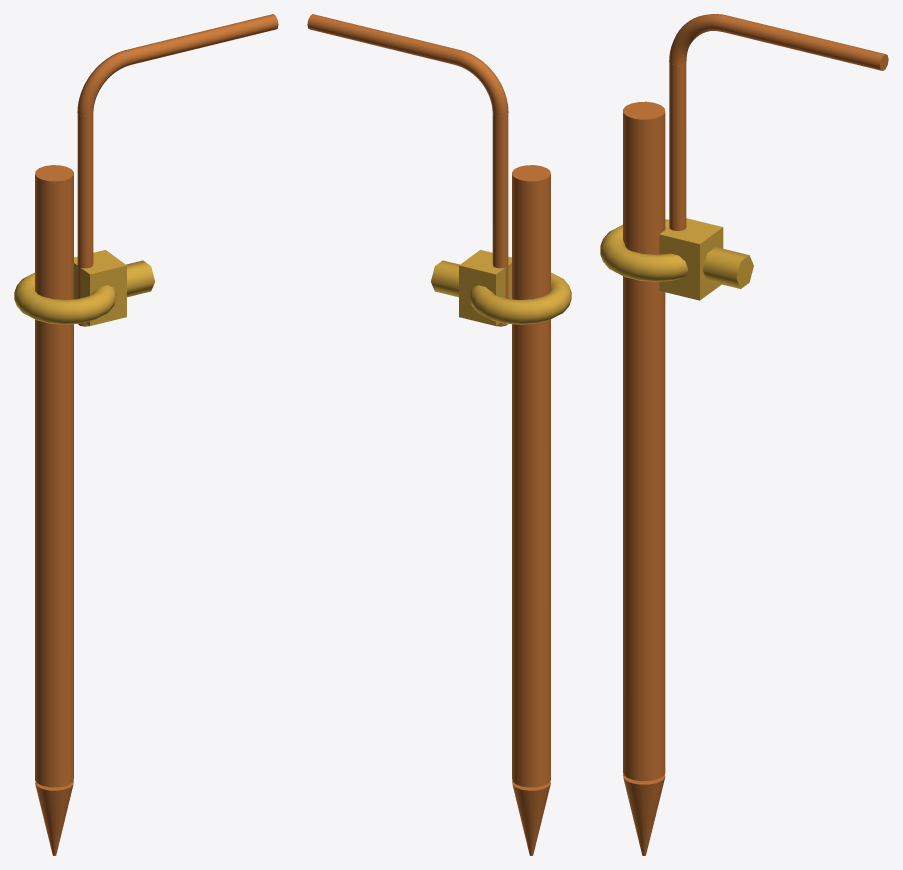
3 renders of one model, left to right at view 1: azimuth 30°, elevation 25°; view 2: azimuth 150°, elevation 25°; view 3: azimuth 330°, elevation 25°, orthographic. The views are drawn at different scales.
Visible parts, largest first — view 1: cad-ground-rod-acorn-clamp; view 2: cad-ground-rod-acorn-clamp; view 3: cad-ground-rod-acorn-clamp.
Boxes of the visible parts, <box> form: cad-ground-rod-acorn-clamp: <box>14,14,278,855</box>; cad-ground-rod-acorn-clamp: <box>307,14,571,855</box>; cad-ground-rod-acorn-clamp: <box>600,14,888,855</box>.
Bounding box in the file's own units: 0.1645 × 0.487 × 0.0571.
